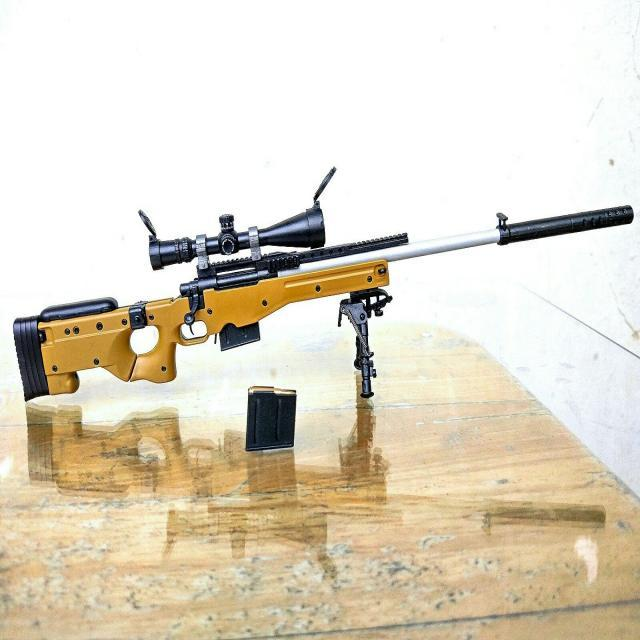rifle: (2, 164, 638, 454)
